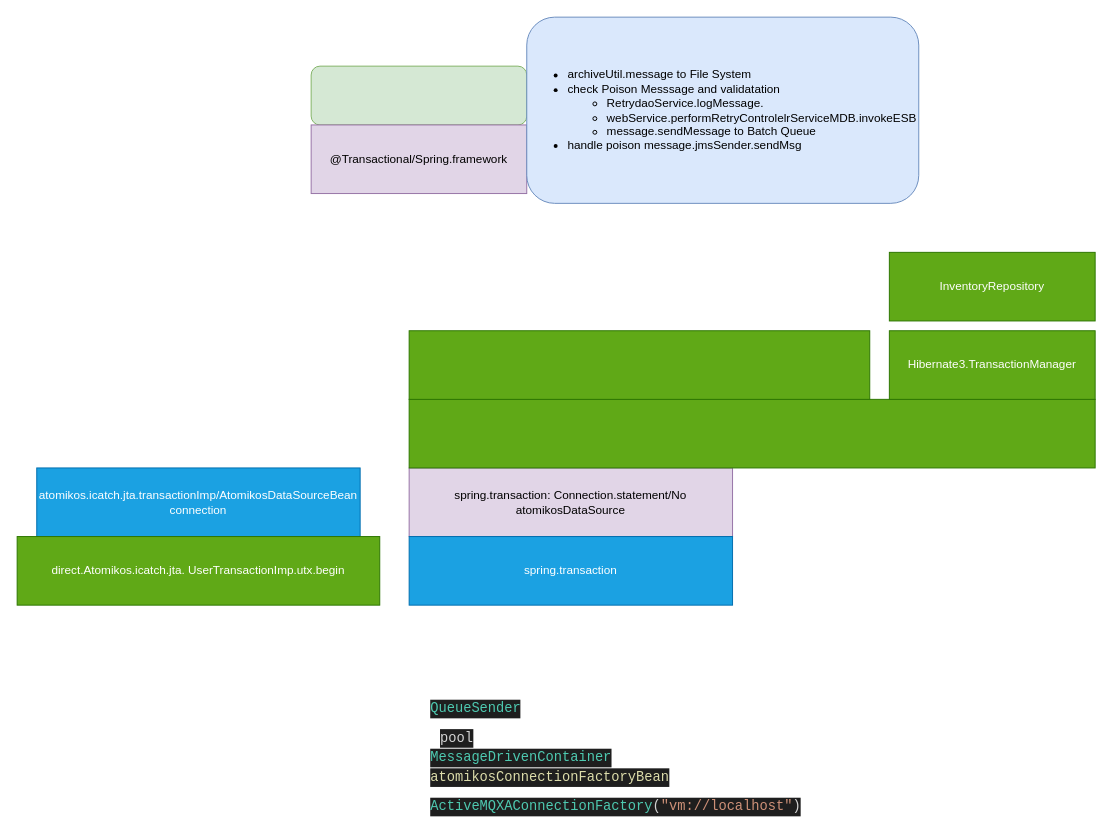
Image size: 1112x838. Some labels were removed from this diagram. The shapes that lost their labels are listed below. From the top down, each one's centre as x and y in pixels, then its label:
At (x=418, y=95): "RetryControllerListern.MQ Listner.onMessage".
At (x=639, y=364): "atomico.icatch.jta.UserTransactionManager.jtaTransactionManager/config.java".
At (x=751, y=433): "spring.transaction.jpa/InventoryRepository/Spring@Trasactional".
